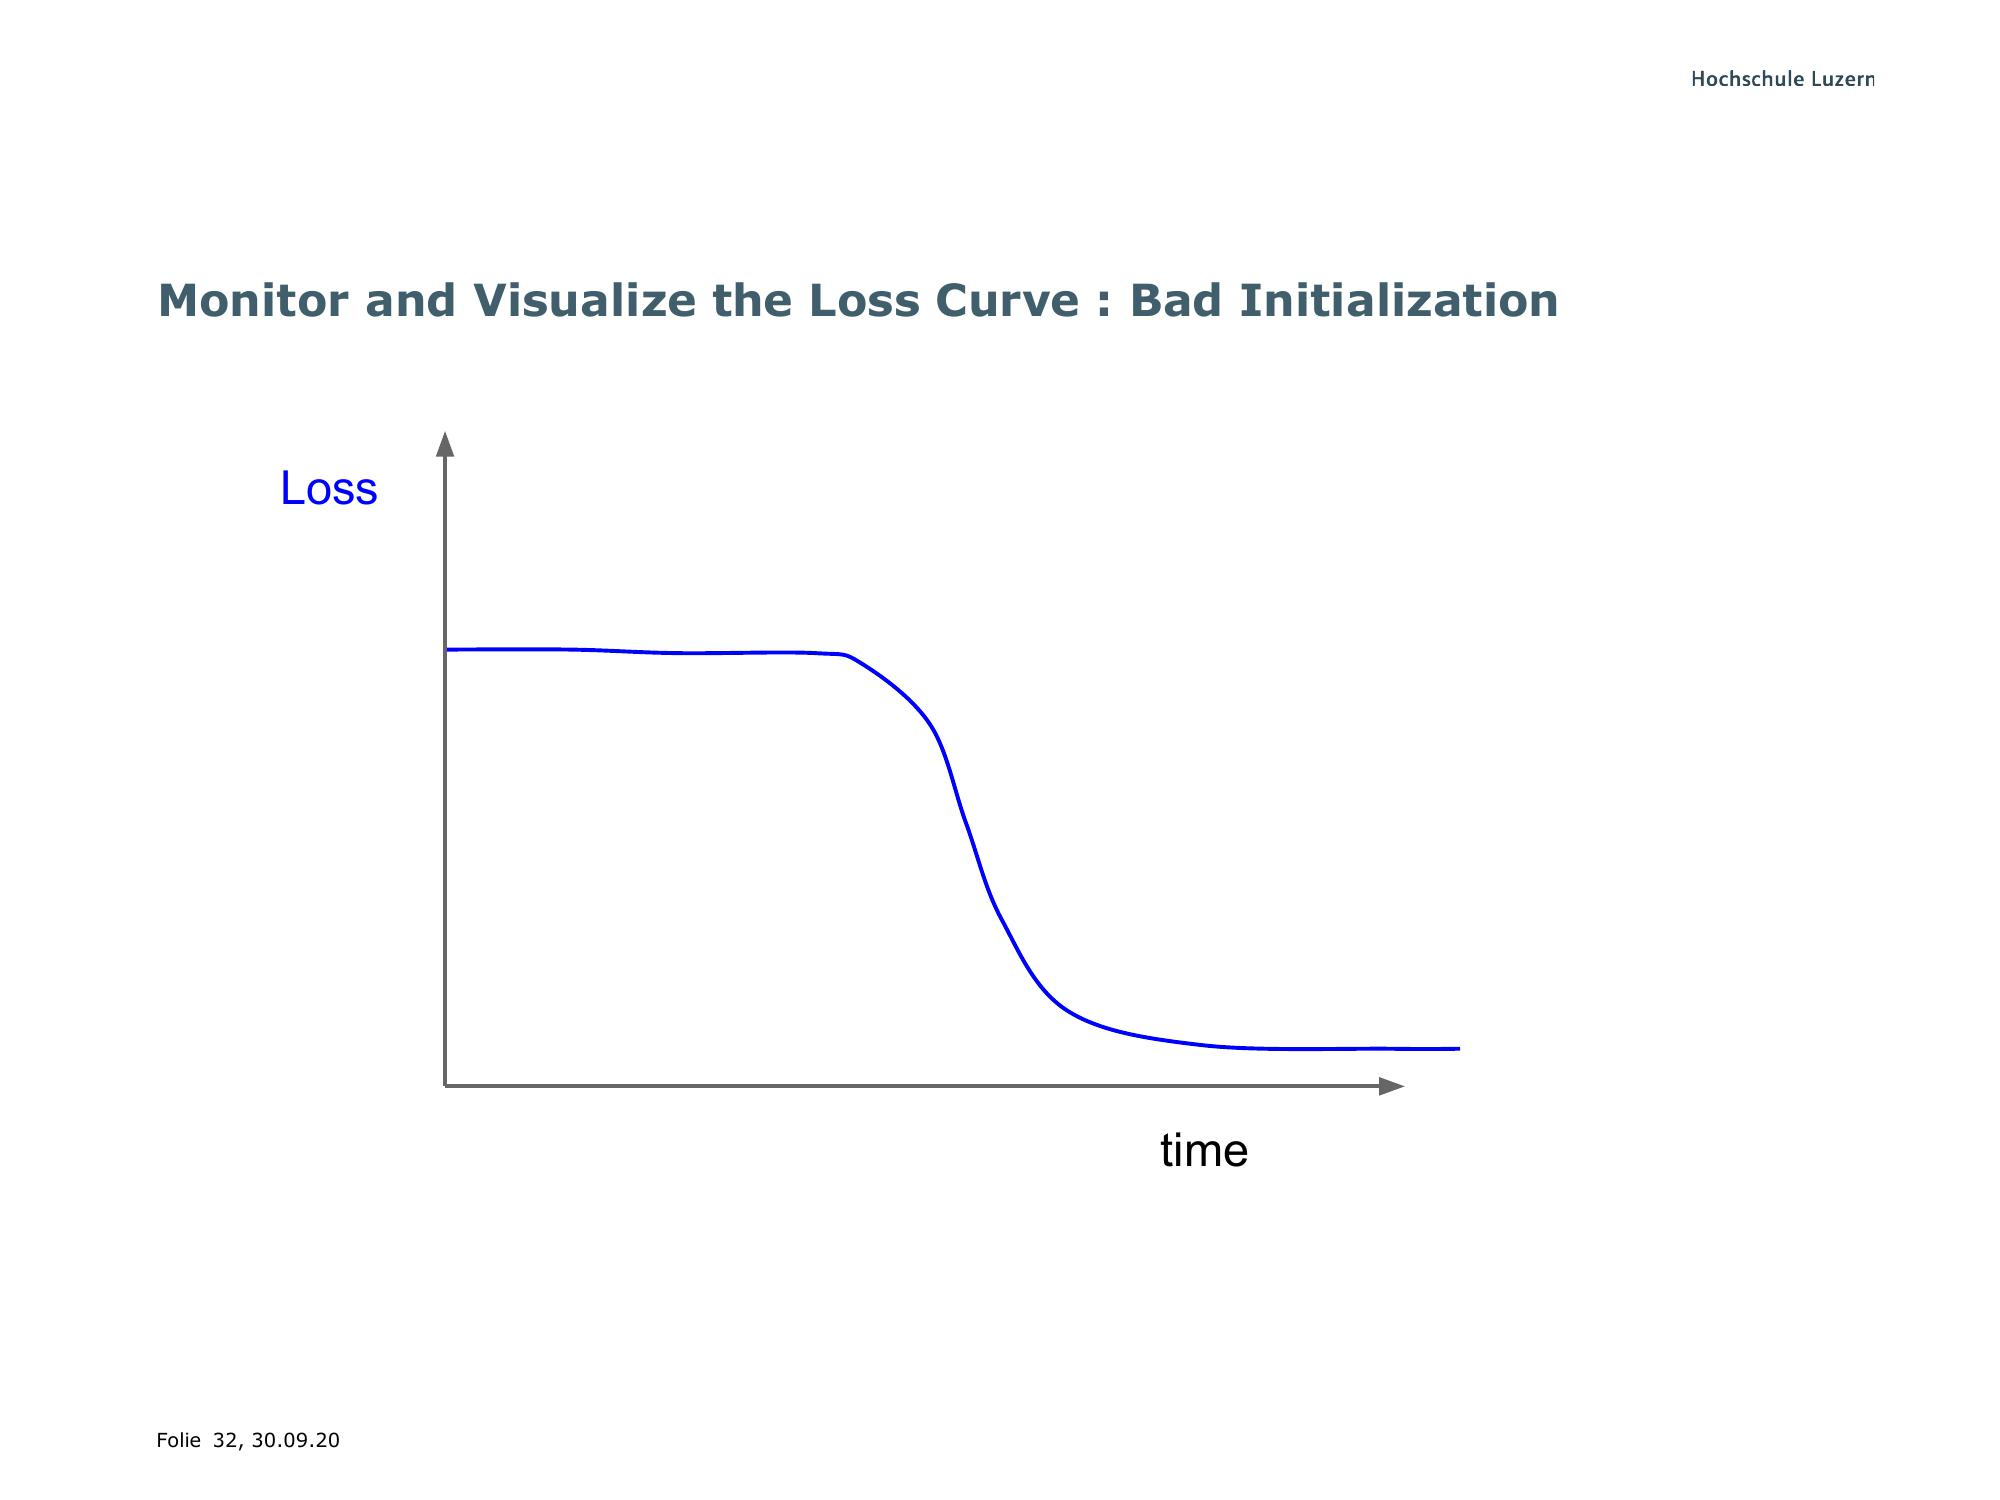Title: (143, 254, 1565, 350)
